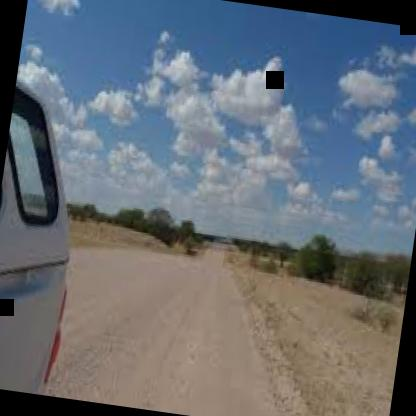car: (0, 59, 111, 398)
